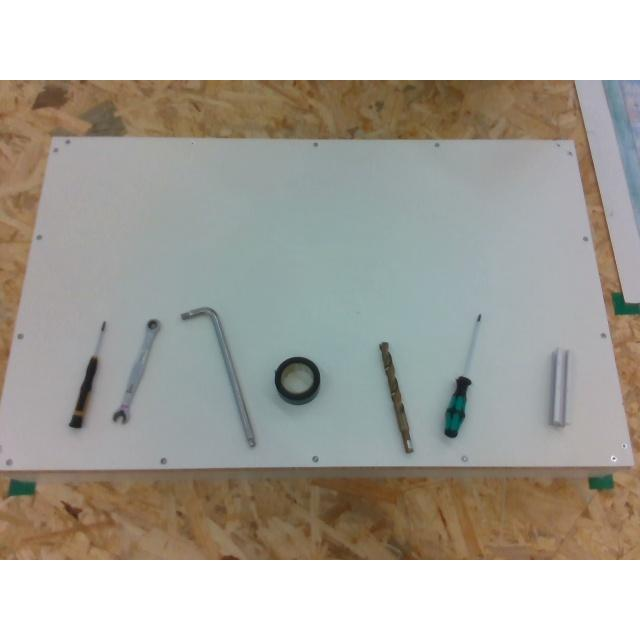AllenKey: (180, 306, 256, 446)
Drill: (379, 341, 413, 453)
F20_20_G: (548, 348, 568, 426)
Screwdriver: (444, 314, 481, 438)
Wrench: (112, 319, 160, 423)
